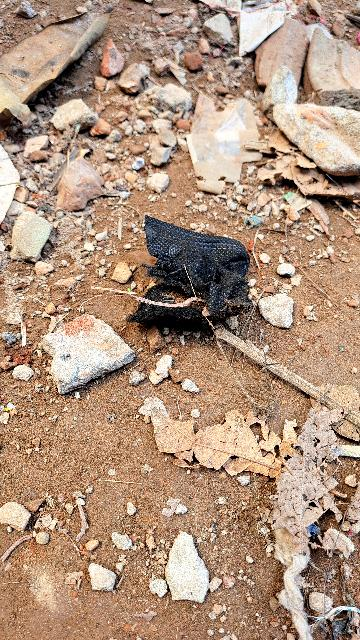mask: (135, 206, 260, 335)
